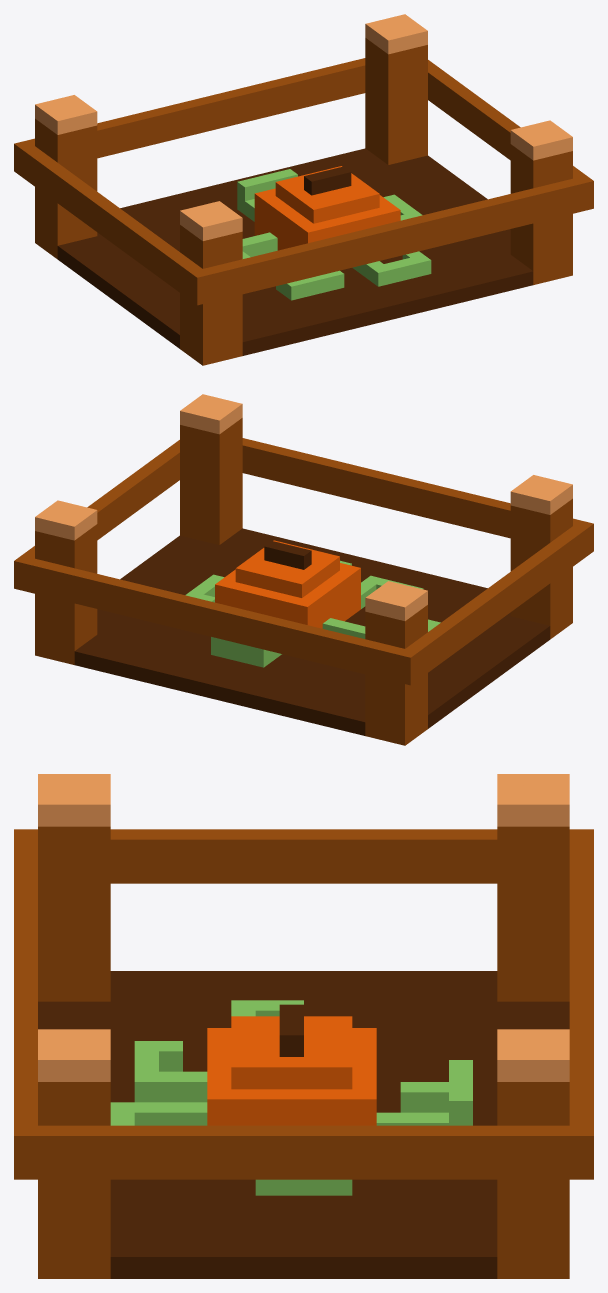
Rendered from GGJ_Farm.obj.
The picture shows the model from 3 angles, top to bottom: view 1: azimuth 30°, elevation 25°; view 2: azimuth 150°, elevation 25°; view 3: azimuth 270°, elevation 25°; orthographic projection. The views are drawn at different scales.
Bounding box in the file's own units: 3 × 1 × 2.4.
Materials: 1 (1 with a texture image).
